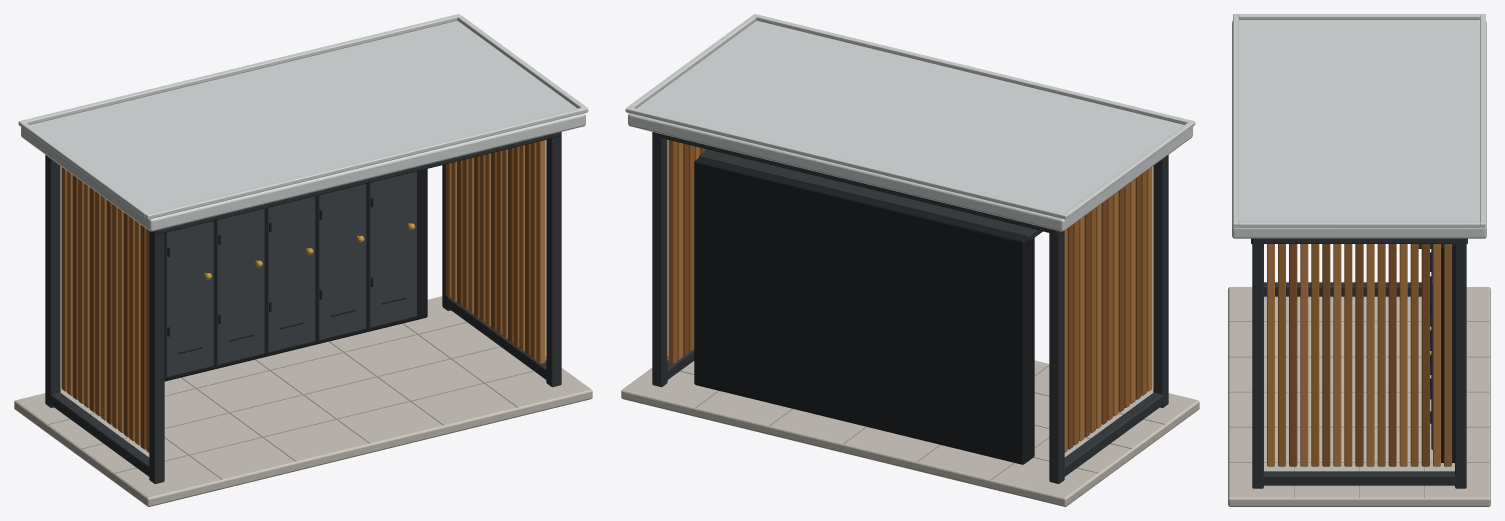
Rendered from outdoor.glb.
3 views of the same model, side by side, from view 1: azimuth 30°, elevation 25°; view 2: azimuth 150°, elevation 25°; view 3: azimuth 270°, elevation 25° (orthographic). The views are drawn at different scales.
Parts seen in each view (by area): view 1: roof, paving, locker, charcoal, oak1, oak2, oak3, dark, grout; view 2: dark, roof, paving, charcoal, oak1, oak2, oak3; view 3: roof, paving, oak1, oak2, charcoal, oak3, dark, grout, locker.
Boxes of the visible parts, box(x1,y1,x2,y2) form: roof: box(18, 14, 588, 231); paving: box(14, 296, 592, 506); locker: box(164, 171, 416, 377); charcoal: box(45, 132, 561, 483); oak1: box(61, 142, 536, 452); oak2: box(67, 140, 545, 445); oak3: box(72, 143, 530, 449); dark: box(164, 169, 427, 381); grout: box(48, 322, 533, 479); dark: box(694, 157, 1034, 464); roof: box(625, 14, 1195, 231); paving: box(621, 356, 1199, 506); charcoal: box(652, 132, 1168, 483); oak1: box(668, 140, 1146, 445); oak2: box(677, 142, 1152, 452); oak3: box(683, 143, 1141, 449); roof: box(1232, 14, 1486, 238); paving: box(1228, 287, 1490, 506); oak1: box(1278, 244, 1451, 466); oak2: box(1267, 244, 1440, 466); charcoal: box(1251, 238, 1467, 488); oak3: box(1289, 244, 1429, 466); dark: box(1430, 244, 1454, 462); grout: box(1229, 321, 1489, 497); locker: box(1431, 249, 1432, 449).
Size of the model in its own units: 3.86 by 2.4 by 2.02.
